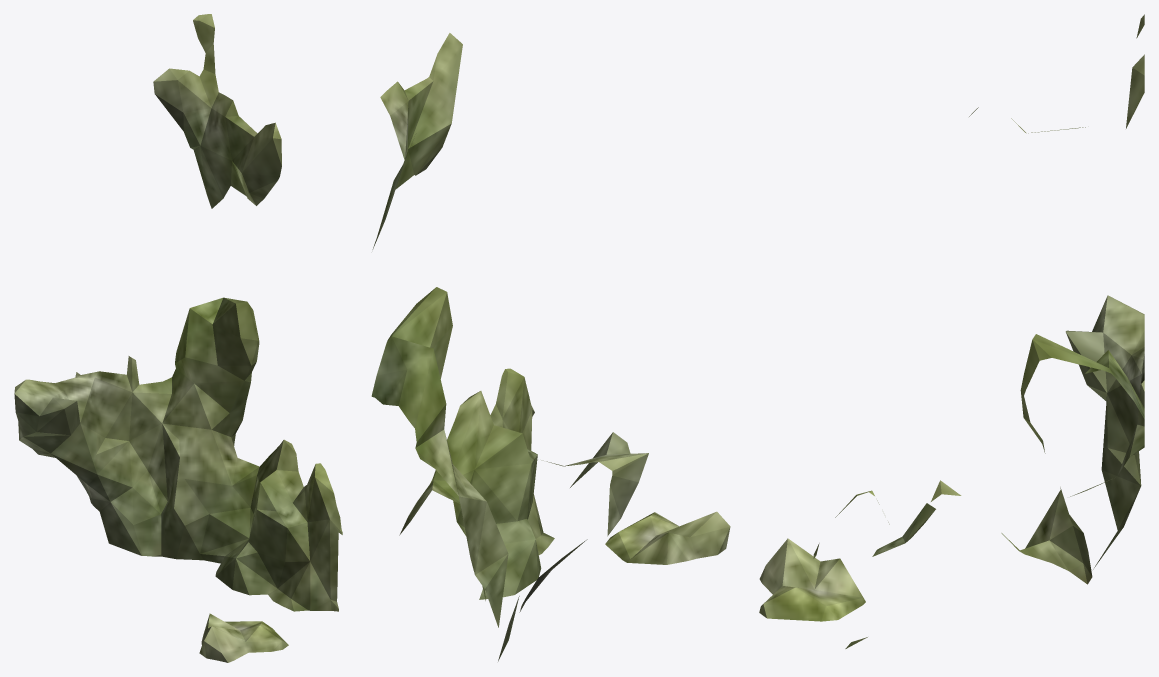
3 views of the same model, side by side, from view 1: azimuth 30°, elevation 25°; view 2: azimuth 150°, elevation 25°; view 3: azimuth 270°, elevation 25° (orthographic). The views are drawn at different scales.
Bounding box in the file's own units: 2.83 × 6.46 × 3.52.
Materials: 1 (1 with a texture image).
